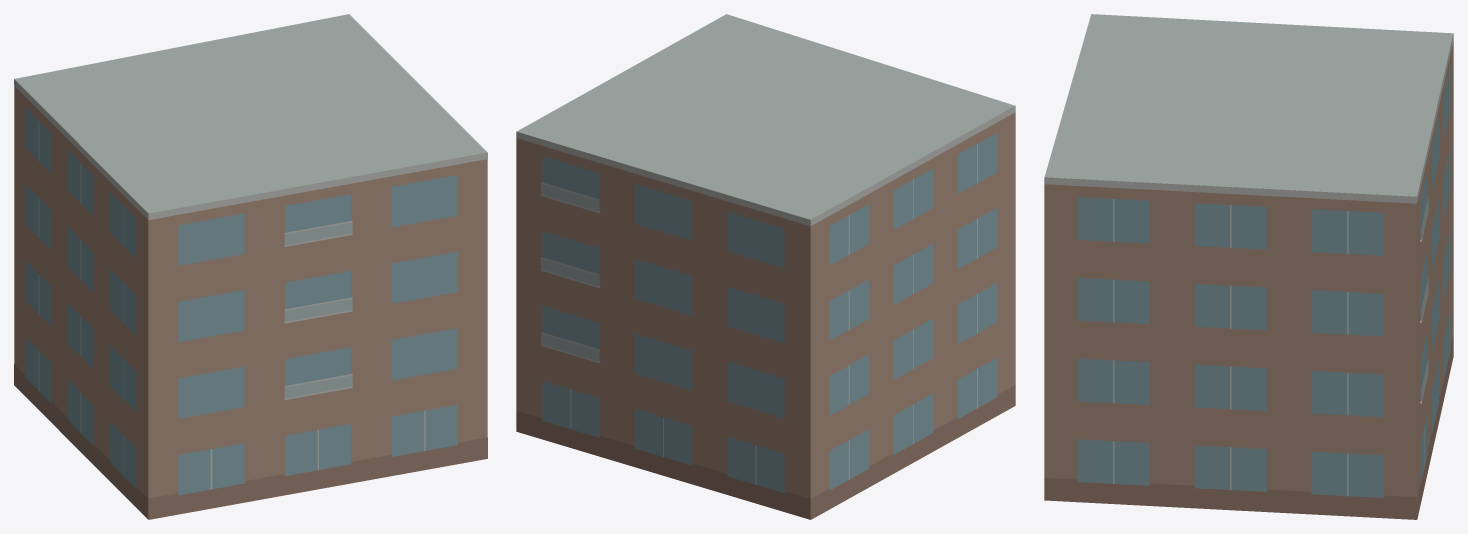
The model's file is survey-upis-32748843.glb.
The picture shows the model from 3 angles, left to right: view 1: azimuth 30°, elevation 25°; view 2: azimuth 150°, elevation 25°; view 3: azimuth 270°, elevation 25°; orthographic projection. The views are drawn at different scales.
Parts seen in each view (by area): view 1: survey-upis-32748843.tmp; view 2: survey-upis-32748843.tmp; view 3: survey-upis-32748843.tmp.
Part boxes in pixels (bbox=[...]): survey-upis-32748843.tmp: bbox=[14, 14, 487, 519]; survey-upis-32748843.tmp: bbox=[516, 14, 1015, 519]; survey-upis-32748843.tmp: bbox=[1044, 14, 1453, 519].
Size of the model in its own units: 13.84 by 11.4 by 13.09.
